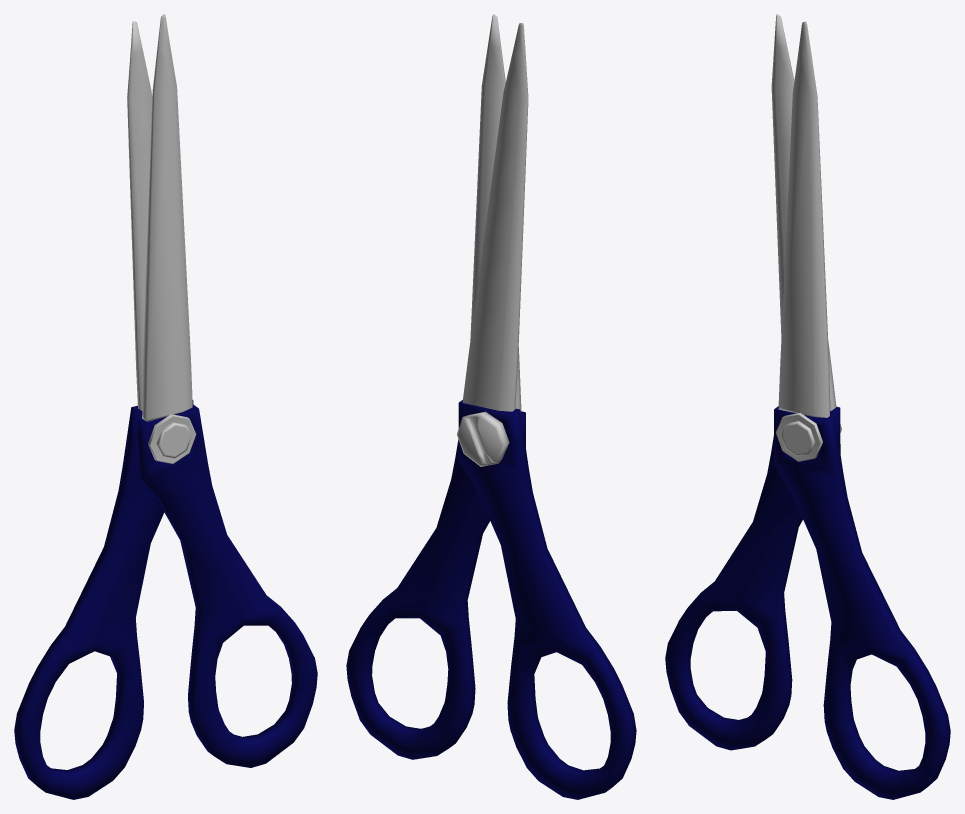
The model's file is Scissors.obj.
3 views of the same model, side by side, from view 1: azimuth 30°, elevation 25°; view 2: azimuth 150°, elevation 25°; view 3: azimuth 330°, elevation 25° (orthographic). The views are drawn at different scales.
Visible parts, largest first — view 1: toolsFBXASC046scissors; view 2: toolsFBXASC046scissors; view 3: toolsFBXASC046scissors.
Part boxes in pixels (<box>): toolsFBXASC046scissors: <box>14,14,317,799</box>; toolsFBXASC046scissors: <box>346,14,636,799</box>; toolsFBXASC046scissors: <box>665,14,950,799</box>.
Bounding box in the file's own units: 25.39 × 64.2 × 3.7.
